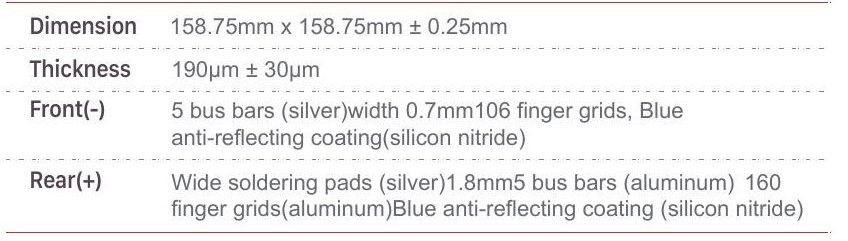table: (1, 1, 844, 237)
table column: (162, 4, 835, 231), (14, 4, 151, 234)
table row: (2, 164, 840, 229), (2, 93, 839, 157), (4, 6, 836, 47), (3, 51, 838, 90)
